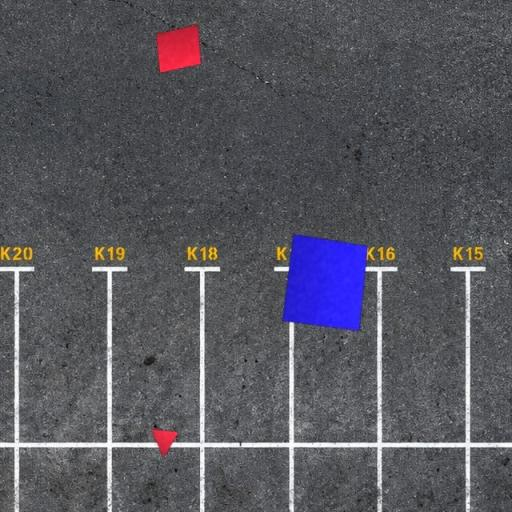BLUE_SQUARE: (282, 234, 368, 331)
RED_SQUARE: (155, 24, 202, 74)
